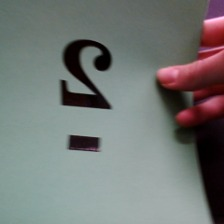green2: (53, 32, 118, 159)
